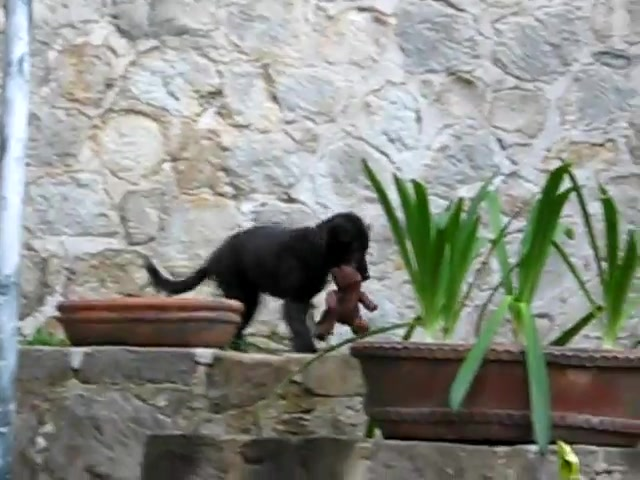dog: (142, 213, 372, 351)
